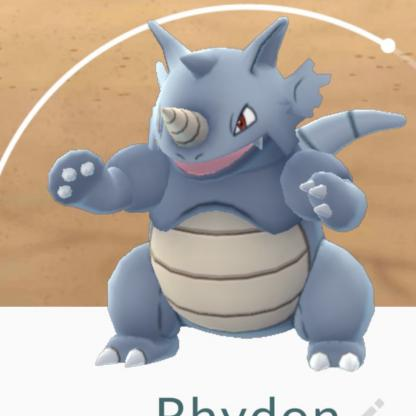Rhydon: (41, 13, 391, 384)
